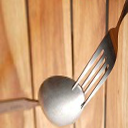Fork: (65, 2, 128, 113)
